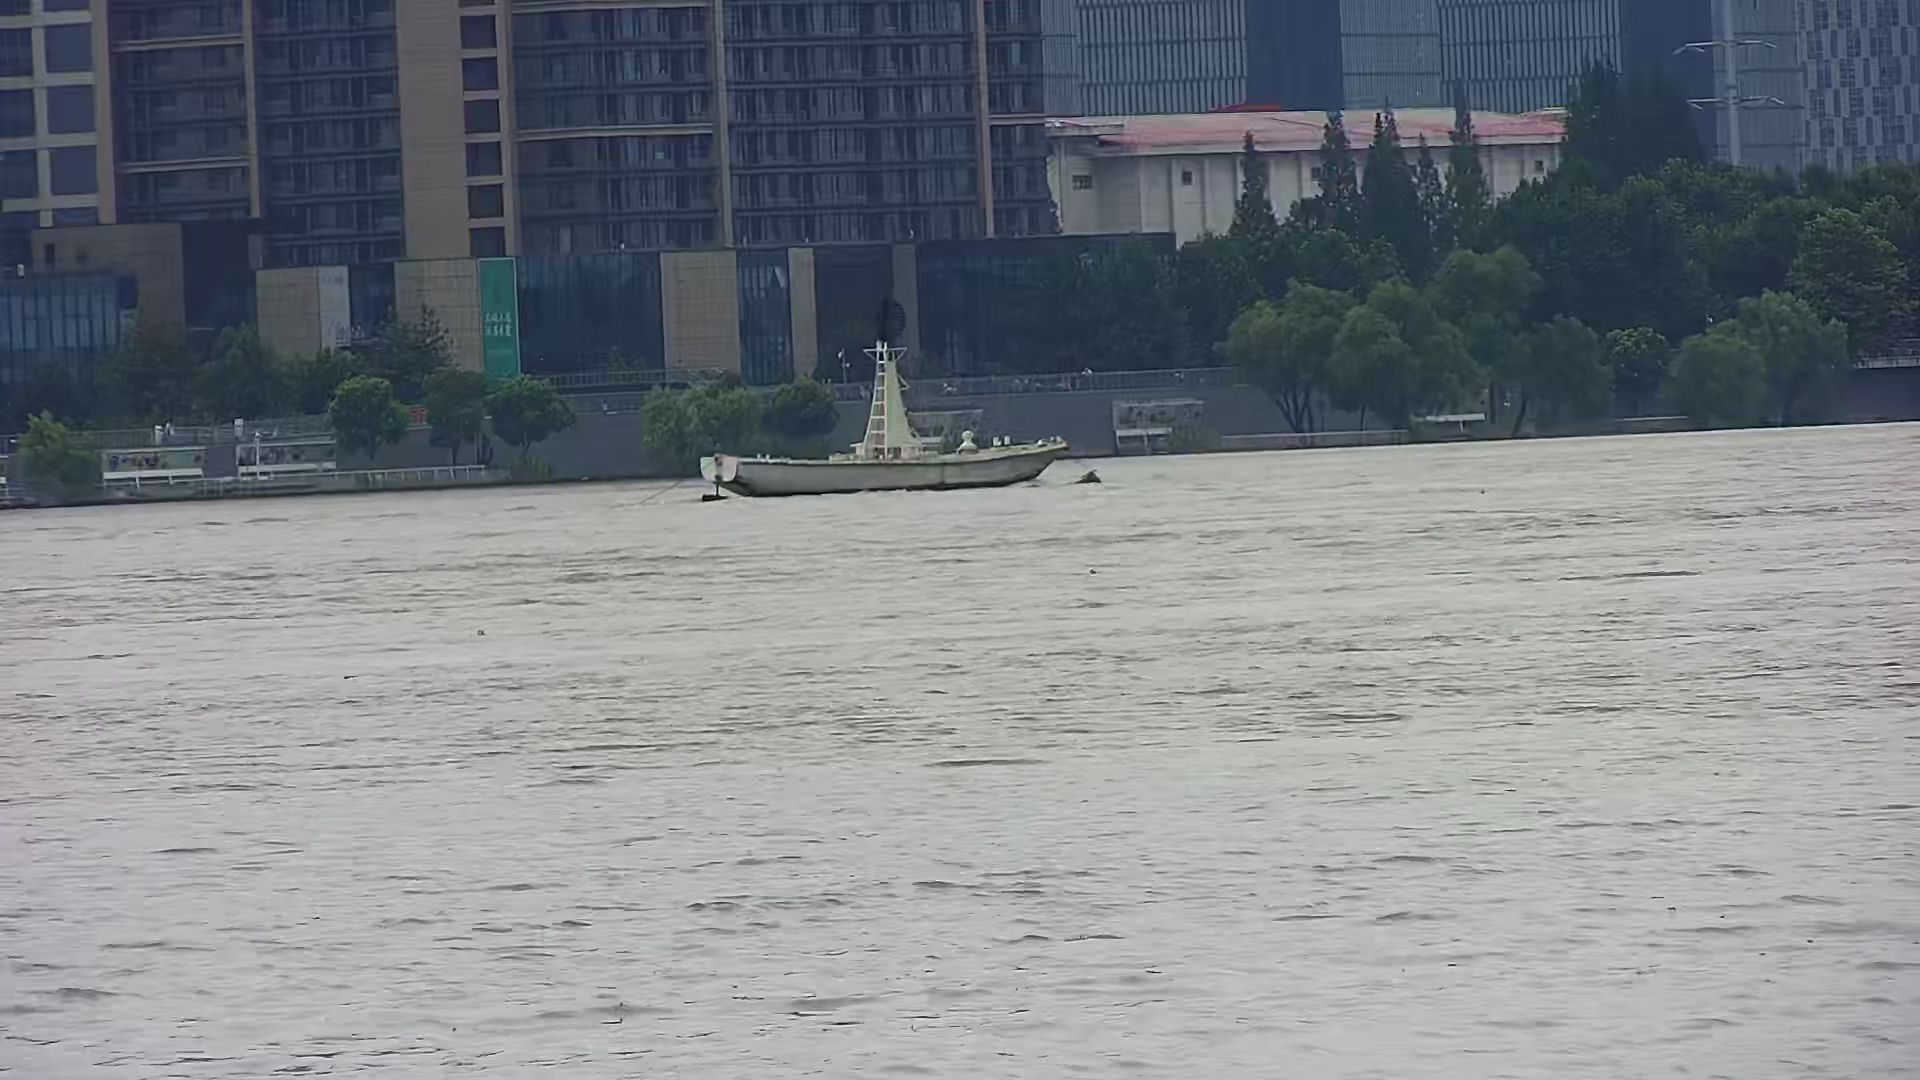boat: (696, 298, 1068, 498)
